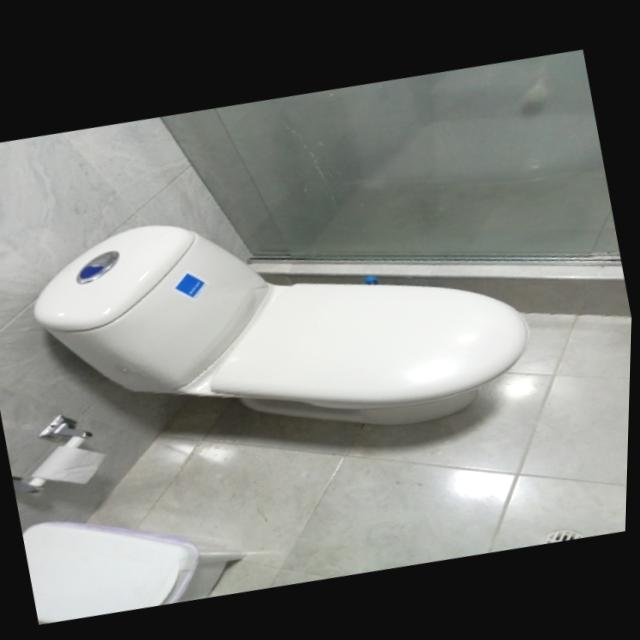toilet: (17, 142, 551, 498)
